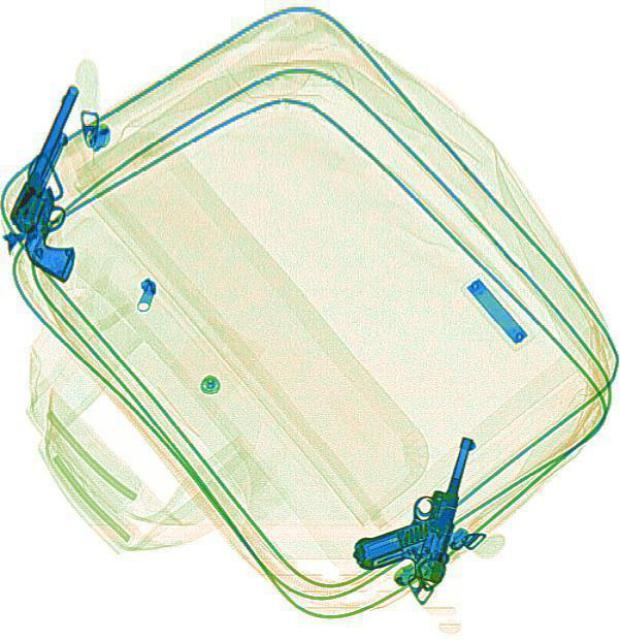Gun: (0, 83, 141, 270), (343, 414, 478, 594)
